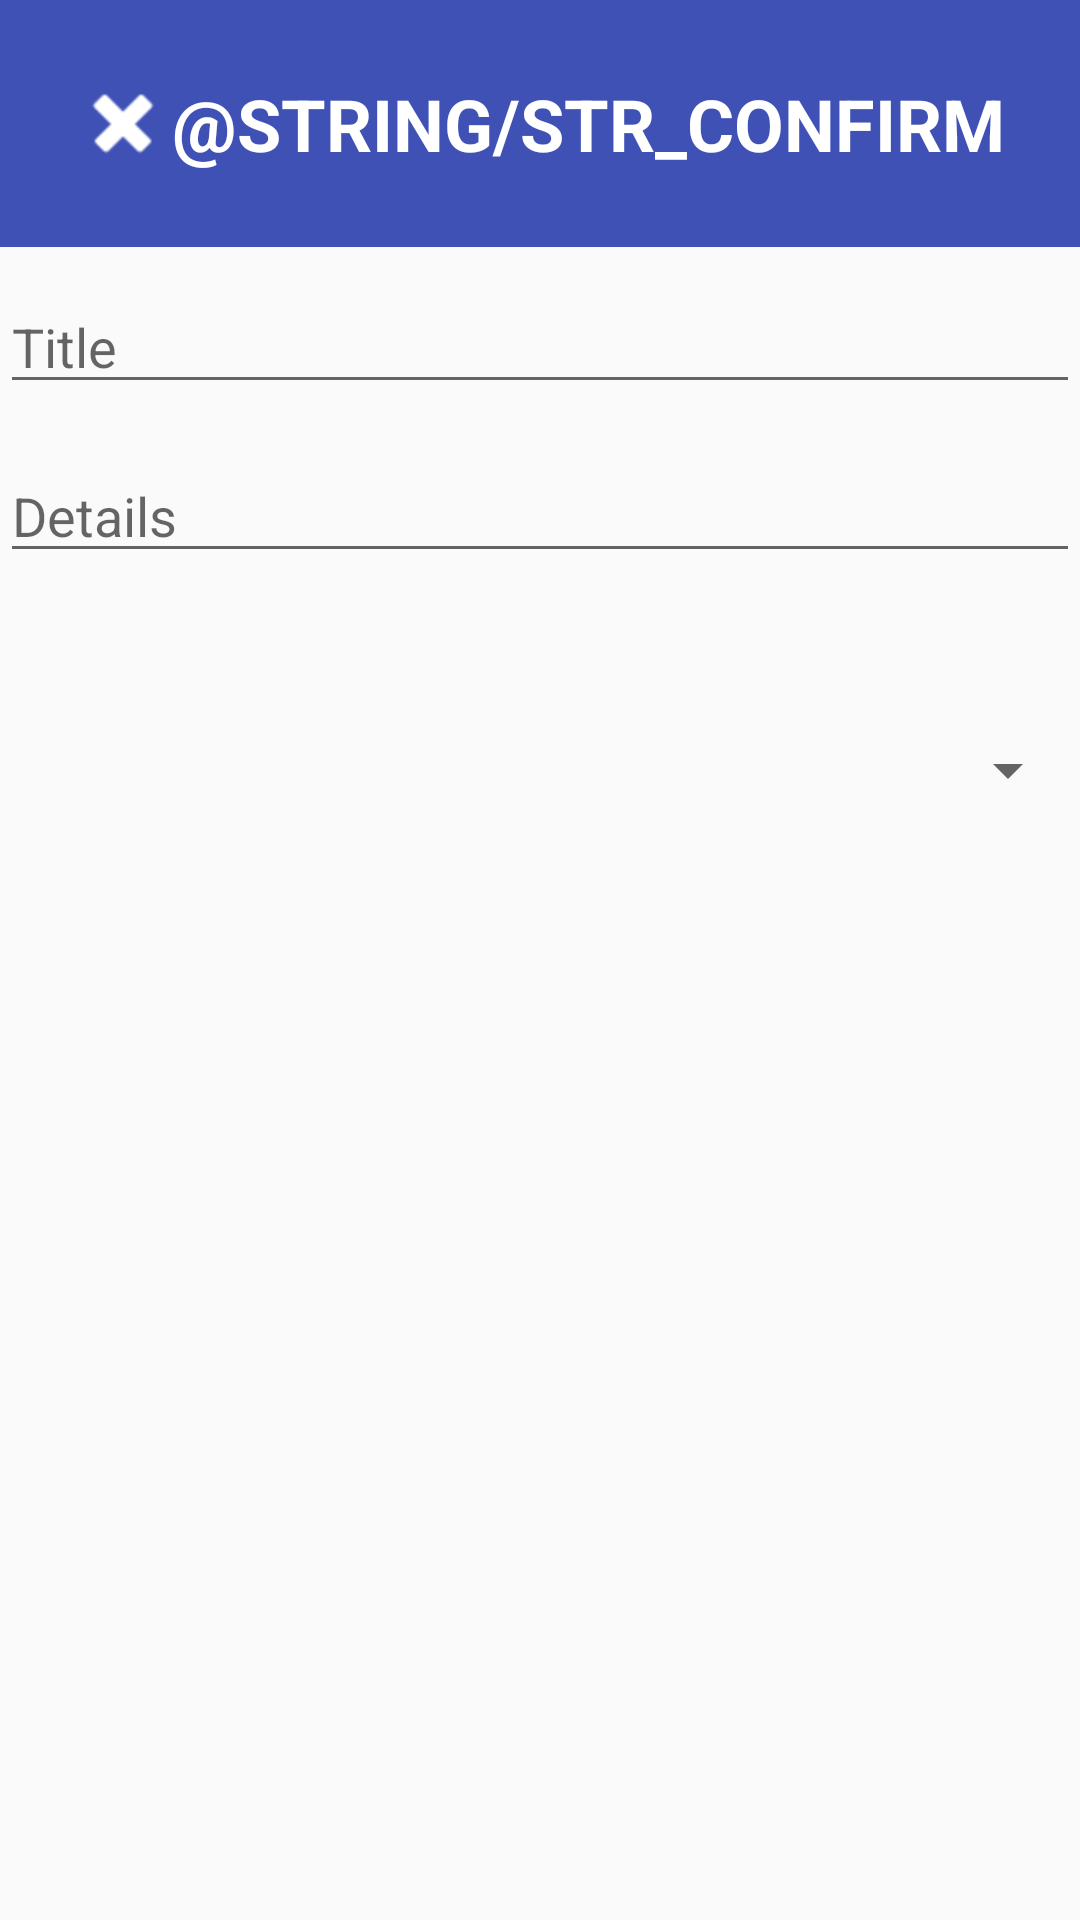

Icon bounding boxes for this 1080 × 1920 phone screenshot, format (x1, y1, x2, y2):
delete: (93, 94, 153, 153)
